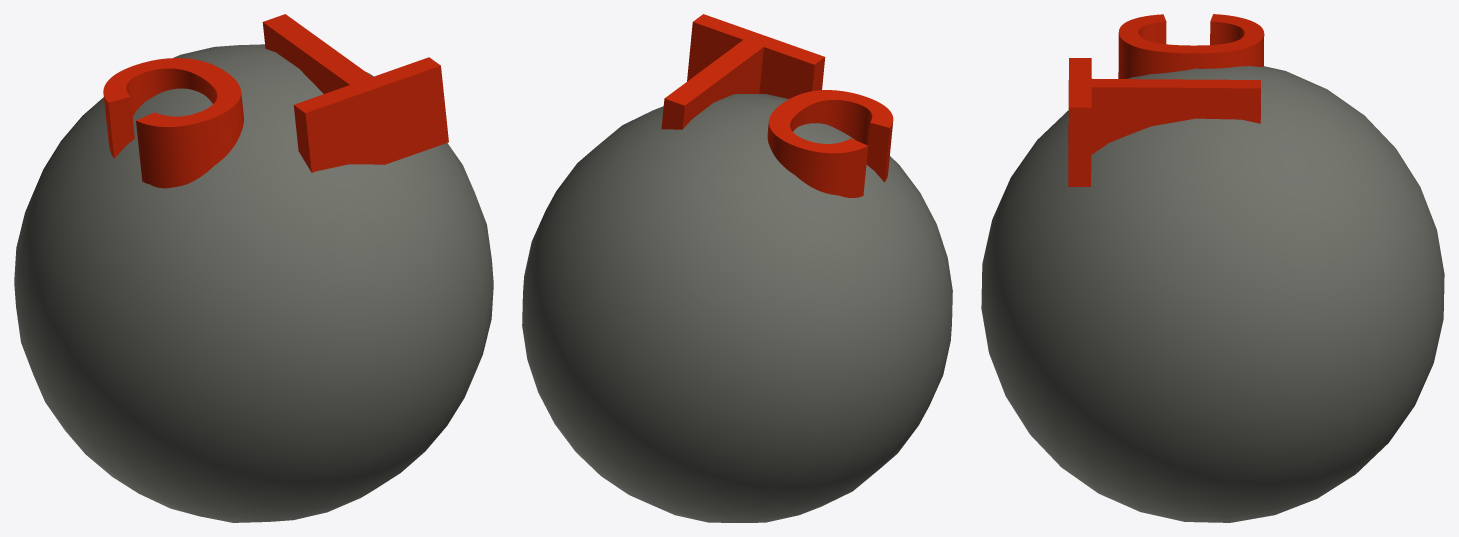
3 renders of one model, left to right at view 1: azimuth 30°, elevation 25°; view 2: azimuth 150°, elevation 25°; view 3: azimuth 270°, elevation 25°, orthographic. The views are drawn at different scales.
Parts seen in each view (by area): view 1: Tc; view 2: Tc; view 3: Tc.
Part boxes in pixels (<box>): Tc: <box>14,14,493,522</box>; Tc: <box>522,14,952,522</box>; Tc: <box>981,14,1444,522</box>.
Size of the model in its own units: 38.62 by 41.05 by 38.63.
